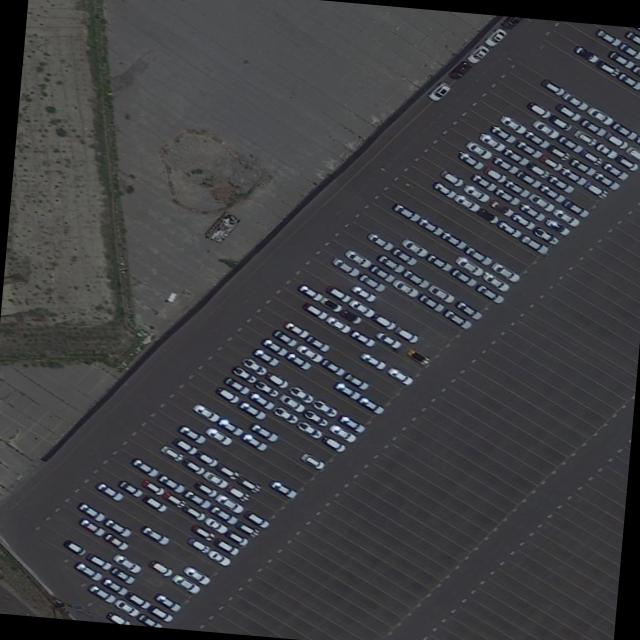small-vehicle: (210, 491, 244, 513), (168, 571, 200, 594), (92, 479, 125, 501), (487, 260, 520, 282), (452, 254, 485, 276), (138, 523, 170, 545), (110, 551, 142, 573), (472, 282, 505, 303), (327, 255, 360, 276), (72, 559, 103, 581), (180, 487, 211, 509), (529, 117, 560, 139), (479, 270, 510, 292), (397, 236, 429, 257), (340, 247, 372, 268), (440, 308, 472, 329), (325, 422, 358, 442), (308, 397, 339, 418), (275, 392, 306, 413), (175, 423, 206, 444), (101, 516, 132, 537), (207, 503, 238, 524), (496, 113, 527, 134), (399, 267, 430, 288), (373, 252, 404, 273), (389, 200, 420, 221), (154, 472, 186, 492), (344, 297, 376, 317), (424, 283, 456, 303), (236, 398, 266, 419), (238, 355, 268, 376), (356, 349, 386, 370), (75, 500, 105, 521), (559, 90, 589, 111), (584, 104, 614, 125), (461, 244, 491, 265), (525, 191, 555, 212), (292, 418, 323, 438), (247, 421, 278, 441), (189, 401, 220, 421), (331, 380, 362, 400), (598, 160, 629, 180), (476, 131, 507, 151), (436, 229, 467, 249), (355, 272, 386, 292), (549, 207, 580, 227), (517, 233, 548, 253), (284, 383, 314, 403), (299, 407, 329, 427), (202, 425, 232, 445), (322, 313, 352, 333), (293, 342, 323, 362), (267, 478, 297, 498), (180, 564, 210, 584), (85, 583, 115, 603), (129, 456, 159, 476), (520, 128, 550, 148), (487, 123, 517, 143), (557, 165, 587, 185), (545, 173, 575, 193), (447, 266, 477, 286), (364, 231, 394, 251), (389, 277, 419, 297), (415, 292, 445, 312), (459, 182, 489, 202), (371, 329, 402, 348), (590, 170, 621, 189), (604, 49, 635, 68), (221, 374, 250, 394), (269, 404, 298, 424), (238, 431, 267, 451), (294, 281, 323, 301), (317, 356, 346, 376), (283, 350, 312, 370), (100, 531, 129, 551), (580, 179, 609, 199), (500, 146, 529, 166), (552, 101, 581, 121), (452, 299, 481, 319), (388, 245, 417, 265), (463, 139, 492, 159), (455, 150, 484, 170), (501, 177, 530, 197), (516, 201, 545, 221), (250, 346, 280, 365), (384, 365, 414, 384), (355, 395, 385, 414), (210, 536, 240, 555), (553, 133, 583, 152), (608, 120, 638, 139), (559, 198, 589, 217), (347, 283, 377, 302), (529, 225, 559, 244), (269, 327, 297, 347), (514, 138, 542, 158), (542, 216, 570, 236), (246, 390, 275, 409), (391, 323, 420, 342), (281, 319, 310, 338), (302, 333, 331, 352), (76, 516, 105, 535), (145, 558, 174, 577), (233, 474, 262, 493), (199, 469, 228, 488), (222, 483, 251, 502), (537, 183, 566, 202), (570, 43, 599, 62), (577, 117, 606, 136), (513, 169, 542, 188), (423, 252, 452, 271), (366, 263, 395, 282), (414, 216, 443, 235), (489, 155, 518, 174), (110, 597, 139, 616), (116, 477, 143, 497), (201, 514, 228, 534), (566, 157, 596, 175), (229, 364, 257, 383), (251, 378, 279, 397), (215, 416, 243, 435), (261, 370, 289, 389), (299, 300, 327, 319), (340, 371, 368, 390), (259, 337, 287, 356), (169, 436, 197, 455), (152, 592, 180, 611), (241, 509, 269, 528), (323, 283, 351, 302), (523, 99, 551, 118), (593, 27, 621, 46), (601, 130, 629, 149), (492, 186, 520, 205), (425, 80, 450, 101), (446, 59, 471, 80), (82, 552, 111, 570), (450, 193, 479, 211), (316, 294, 343, 313), (184, 534, 211, 553), (159, 489, 186, 508), (140, 493, 167, 512), (336, 414, 364, 432), (318, 434, 346, 452), (348, 328, 376, 346), (108, 566, 136, 584), (100, 576, 128, 594), (187, 522, 215, 540), (212, 461, 240, 479), (232, 519, 260, 537), (178, 502, 206, 520), (538, 77, 566, 95), (612, 152, 640, 170), (570, 128, 598, 146), (469, 172, 497, 190), (486, 198, 514, 216), (494, 219, 522, 237), (464, 43, 489, 63), (298, 451, 325, 469), (403, 347, 430, 365), (146, 604, 173, 622), (157, 443, 184, 461), (178, 457, 205, 475), (191, 479, 218, 497), (576, 147, 603, 165), (543, 142, 570, 160), (536, 153, 563, 171), (591, 141, 618, 159), (480, 164, 507, 182), (437, 168, 464, 186), (508, 211, 535, 229), (429, 180, 456, 198), (369, 312, 397, 329), (594, 59, 622, 76), (615, 41, 640, 60), (213, 385, 239, 403), (337, 306, 363, 324), (205, 548, 231, 566), (193, 448, 219, 466), (139, 477, 165, 495), (524, 160, 550, 178), (614, 71, 640, 89), (546, 113, 572, 131), (474, 206, 500, 224), (123, 591, 150, 608), (221, 528, 248, 545), (483, 27, 506, 46), (60, 538, 85, 555), (622, 144, 640, 162), (622, 29, 640, 45), (628, 63, 640, 77)
